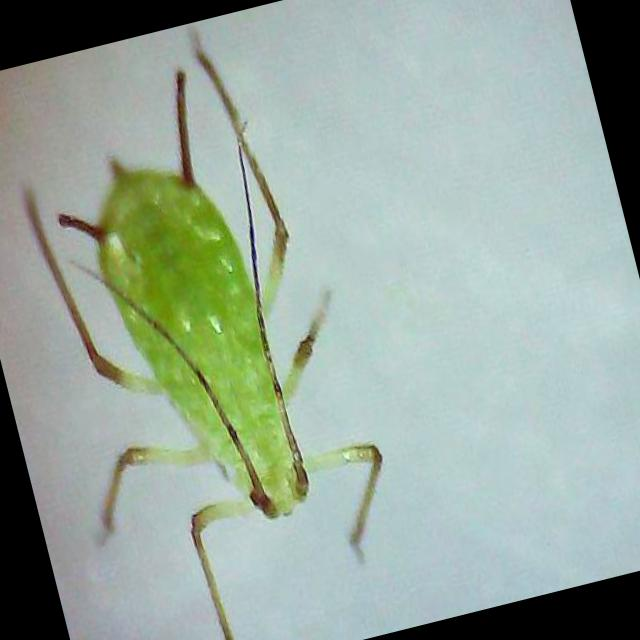Aphid: (0, 59, 415, 635)
